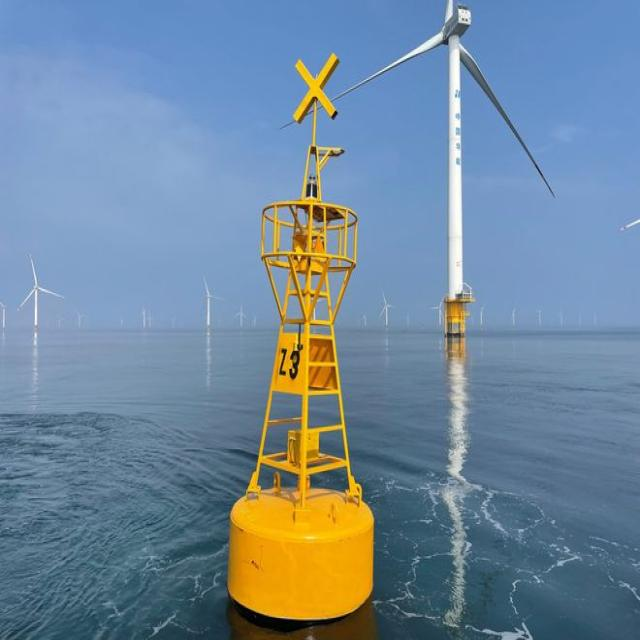buoy: (221, 49, 380, 629)
